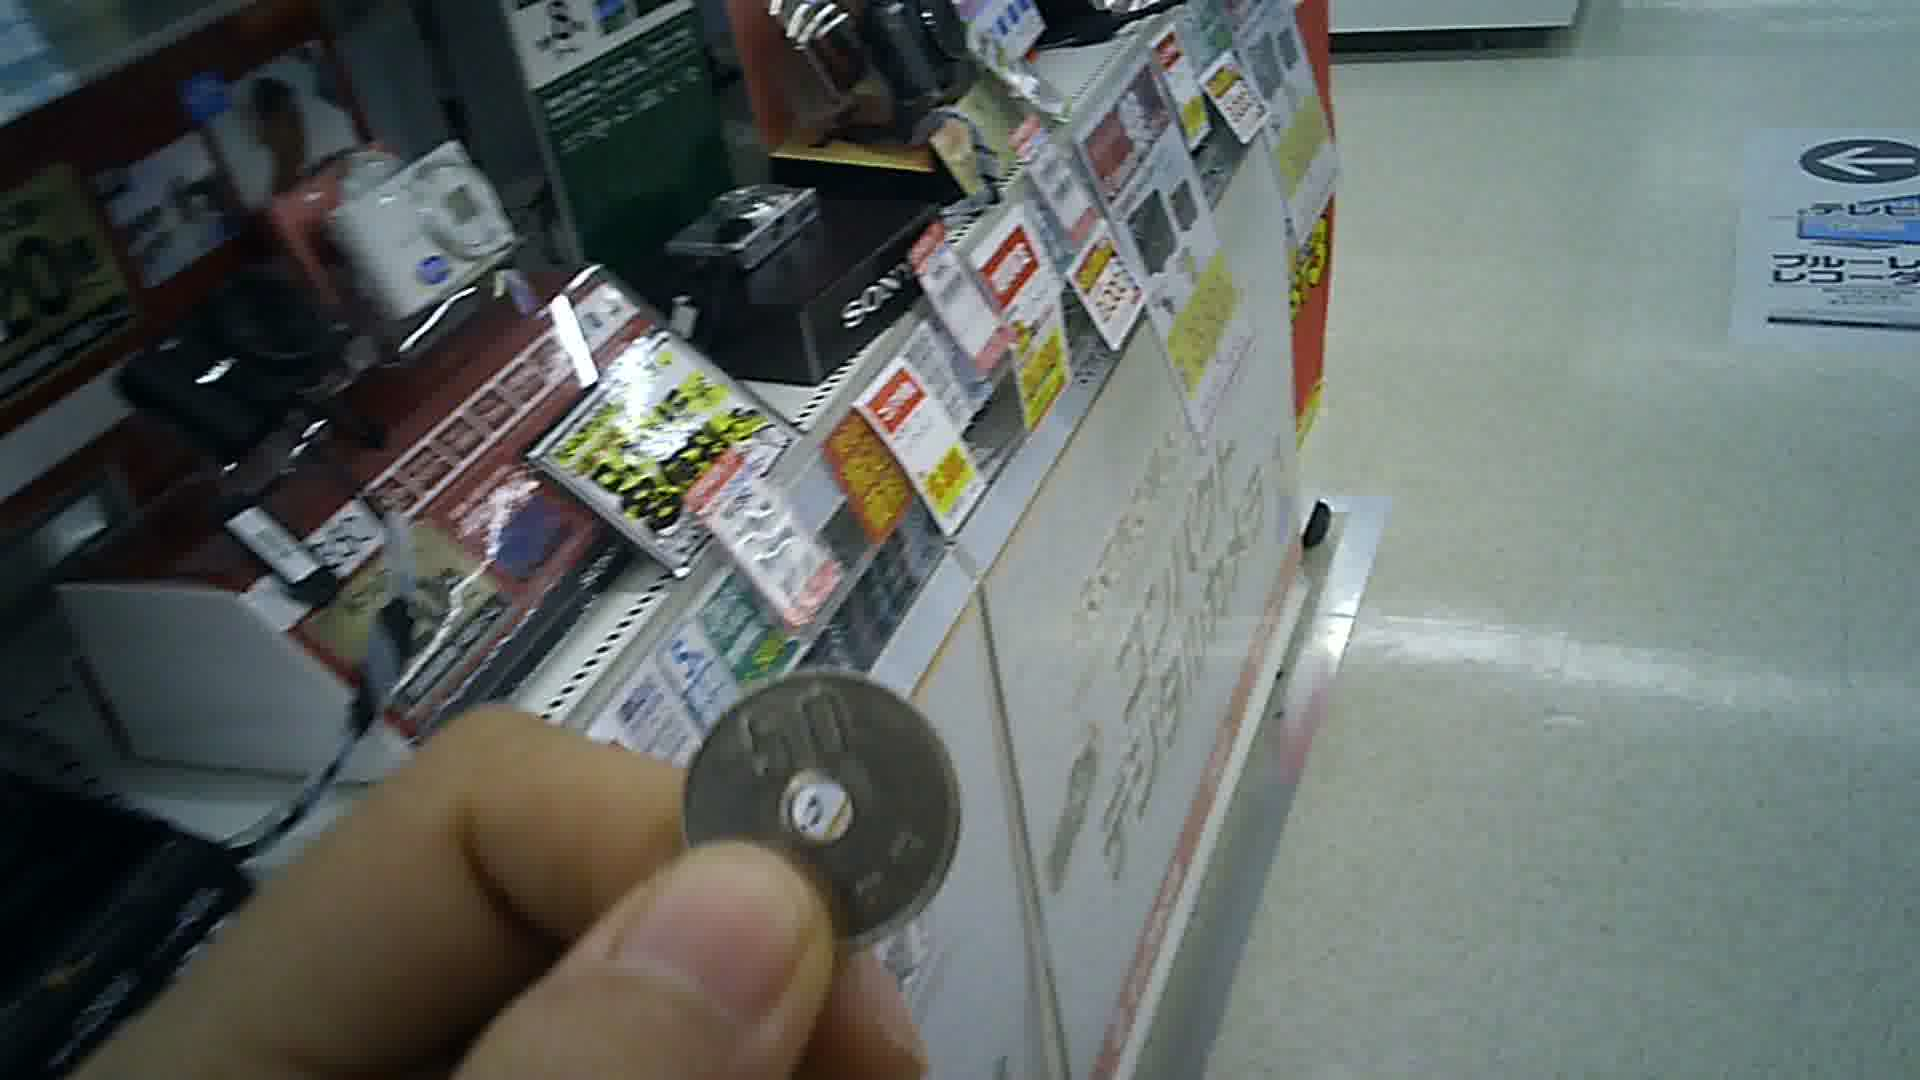50 Yen: (669, 669, 969, 963)
